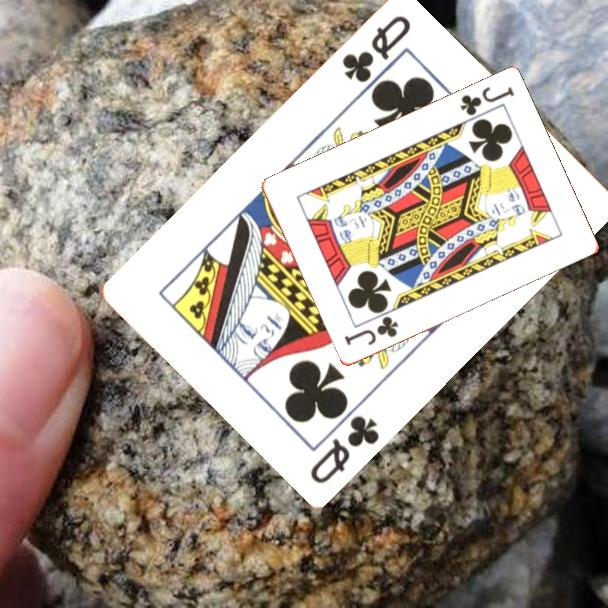c11: (456, 83, 517, 119), (341, 313, 401, 349)
c12: (306, 411, 383, 486), (338, 11, 414, 85)
